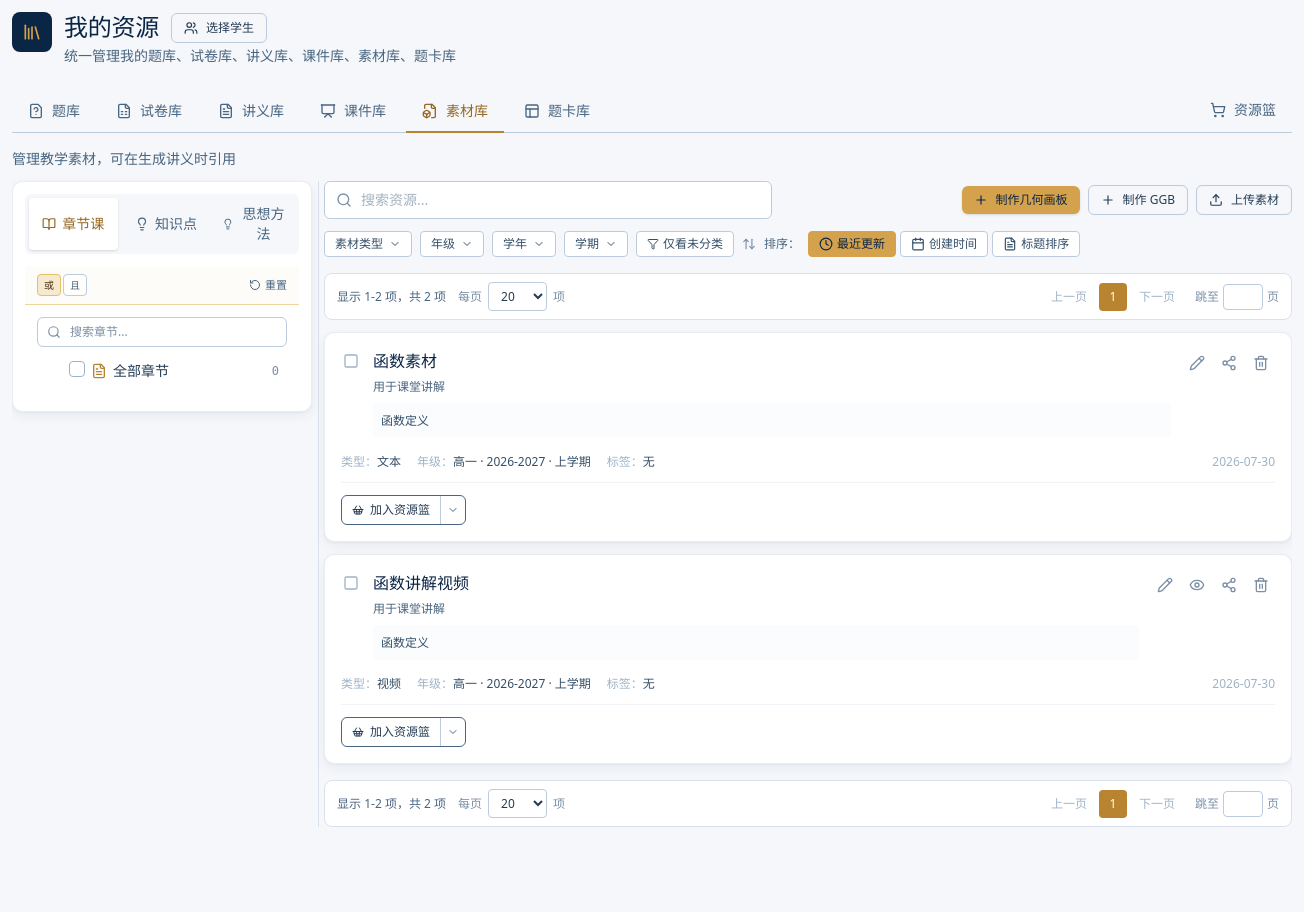
Test: MyResourcesPage batch actions › filters materials by the existing material types and places the type filter before grade
Expected: the text "函数素材" is shown, [373, 349, 437, 375]
Expected: the text "函数讲解视频" is shown, [373, 571, 469, 597]
Step 1. Click the button "素材类型" → [368, 244], box [324, 231, 412, 257]
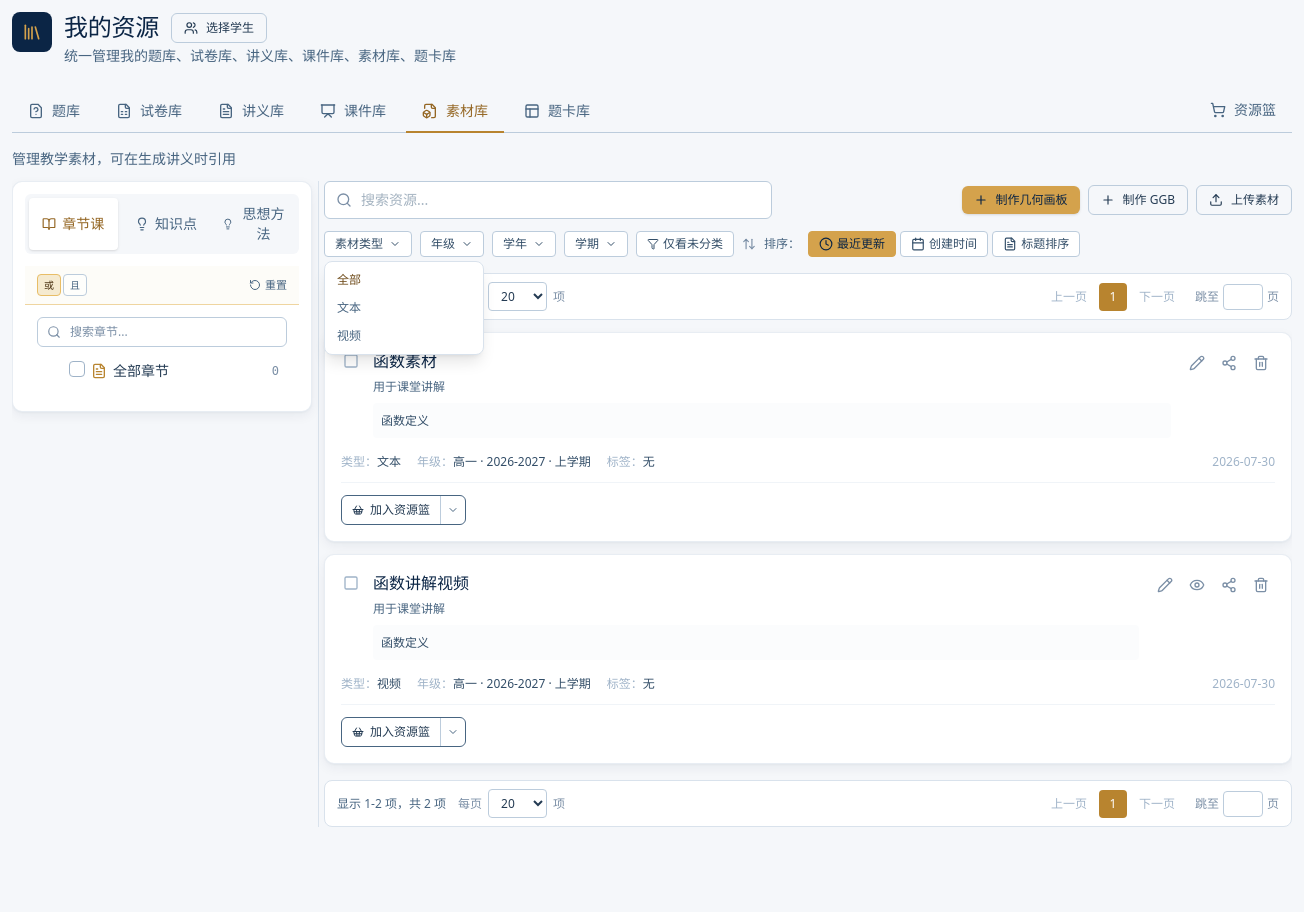
Expected: the button "文本" is shown, [325, 294, 483, 322]
Expected: the button "视频" is shown
Step 2. Click the button "视频" → [404, 336], box [325, 322, 483, 350]
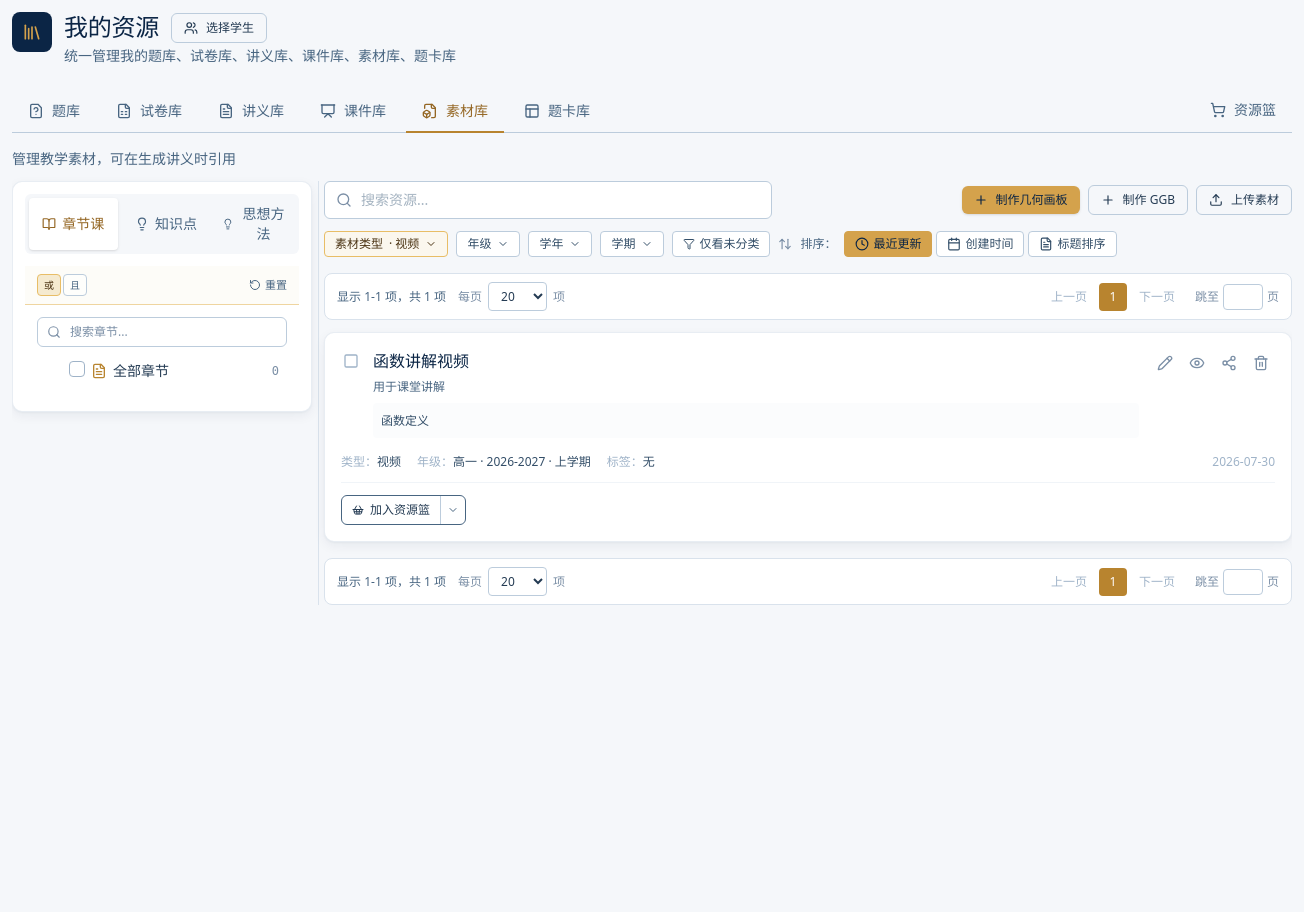
Expected: the text "函数讲解视频" is shown, [373, 349, 469, 375]
Expected: the text "函数素材" is gone
